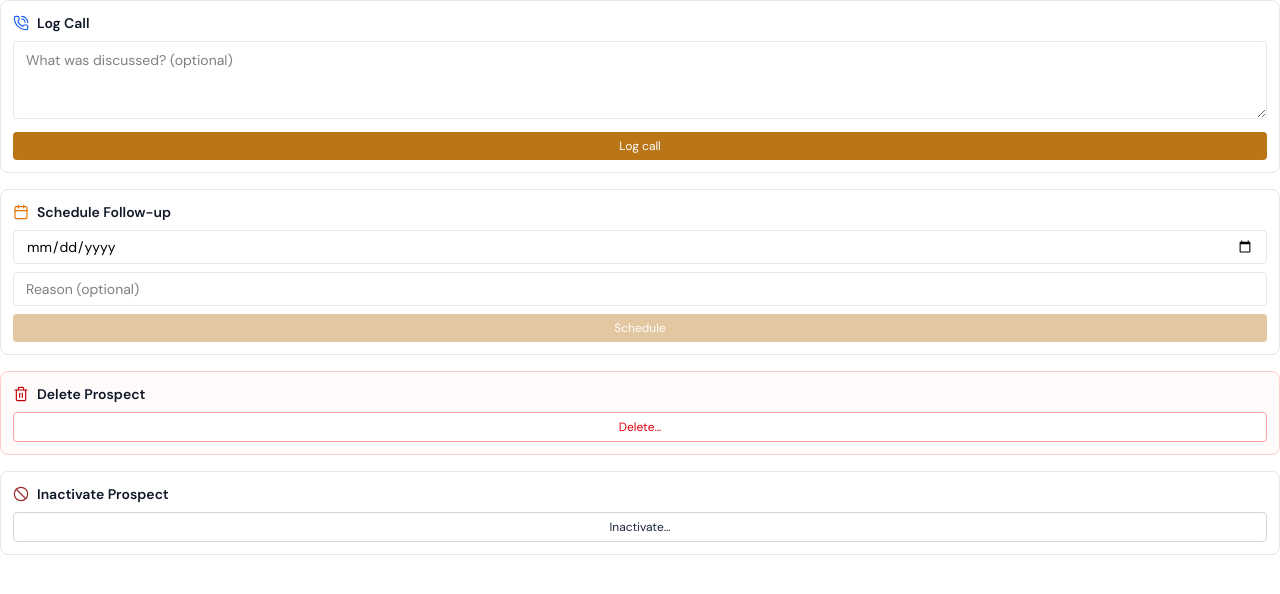
Test: ActionsTab renders the delete refusal › the honest copy: the confirm text no longer promises a cascade
This screenshot has width=1280, height=594.
Click the button "Delete…" at (640, 427), box [13,412,1267,442]
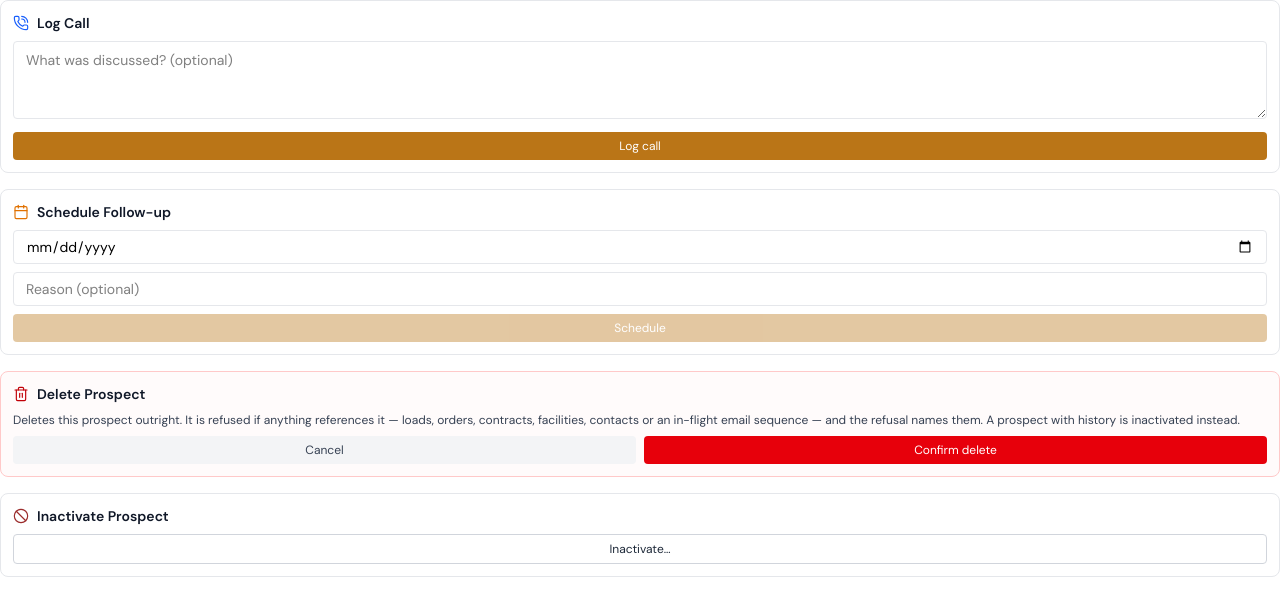
Expected: the text "Deletes this prospect outright" shows "inactivated instead", [13,412,1240,428]
